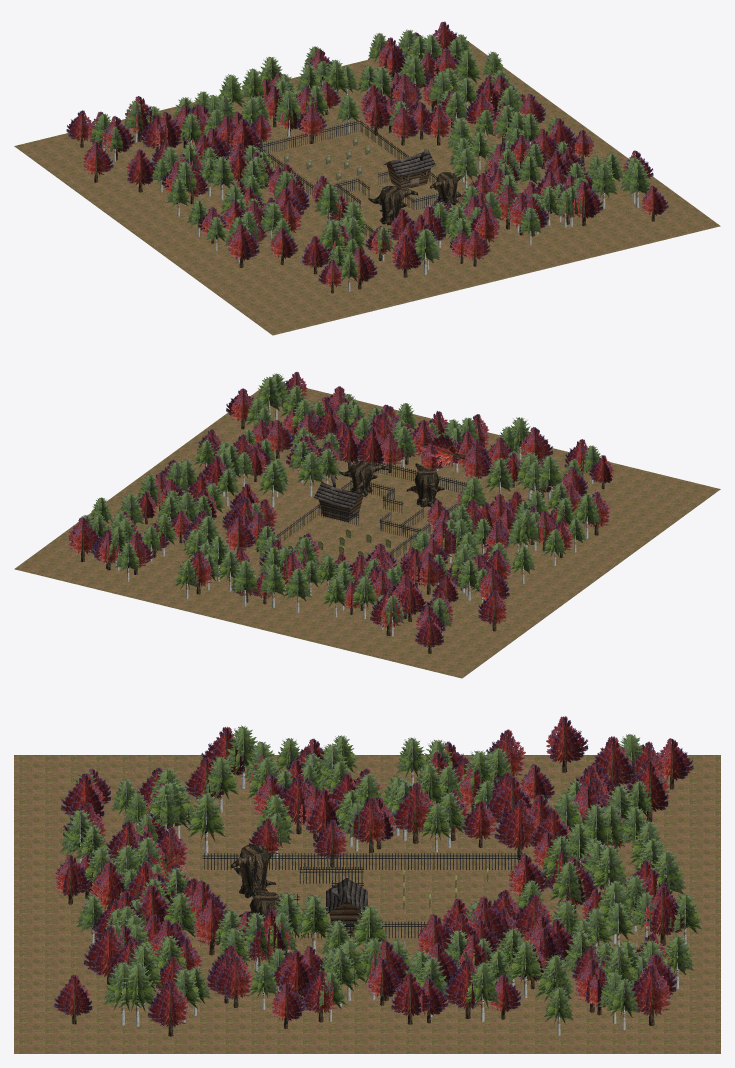
File: cementery.fbx
3 renders of one model, top to bottom at view 1: azimuth 30°, elevation 25°; view 2: azimuth 150°, elevation 25°; view 3: azimuth 270°, elevation 25°, orthographic. The views are drawn at different scales.
Parts seen in each view (by area): view 1: Landscape.002, House, bigTrunk.001, Landscape.002|tree.001|Dupli|2, Landscape.002|tree.001|Dupli|92, Landscape.002|tree.001|Dupli|4, Landscape.002|tree.001|Dupli|188, Landscape.002|tree.001|Dupli|, Landscape.002|tree.001|Dupli|172, Landscape.002|tree.001|Dupli|128, Landscape.002|tree.002|Dupli|227, Landscape.002|tree.001|Dupli|140 (+26 smaller); view 2: Landscape.002, House, bigTrunk.001, bigTrunk, Landscape.002|tree.001|Dupli|250, Landscape.002|tree.001|Dupli|138, tree.001, Landscape.002|tree.001|Dupli|, Landscape.002|tree.001|Dupli|44, Landscape.002|tree.001|Dupli|52, Landscape.002|tree.002|Dupli|125, Landscape.002|tree.001|Dupli|40 (+29 smaller); view 3: Landscape.002, House, Landscape.002|tree.001|Dupli|90, Landscape.002|tree.001|Dupli|250, bigTrunk.001, Landscape.002|tree.001|Dupli|, Landscape.002|tree.001|Dupli|254, Landscape.002|tree.001|Dupli|142, Landscape.002|tree.001|Dupli|68, Landscape.002|tree.001|Dupli|188, Landscape.002|tree.002|Dupli|85, Landscape.002|tree.001|Dupli|10 (+111 smaller).
Boxes of the visible parts, x1,y1,x2,y2 form: Landscape.002: (14, 39, 720, 335); House: (383, 149, 435, 189); bigTrunk.001: (368, 186, 418, 225); Landscape.002|tree.001|Dupli|2: (227, 224, 259, 267); Landscape.002|tree.001|Dupli|92: (391, 234, 422, 277); Landscape.002|tree.001|Dupli|4: (126, 149, 155, 192); Landscape.002|tree.001|Dupli|188: (572, 181, 603, 226); Landscape.002|tree.001|Dupli|: (83, 141, 113, 182); Landscape.002|tree.001|Dupli|172: (421, 105, 451, 145); Landscape.002|tree.001|Dupli|128: (470, 206, 499, 243); Landscape.002|tree.002|Dupli|227: (591, 163, 617, 209); Landscape.002|tree.001|Dupli|140: (363, 95, 391, 135); Landscape.002: (14, 383, 720, 678); House: (314, 475, 366, 521); bigTrunk.001: (406, 463, 444, 507); bigTrunk: (339, 461, 388, 495); Landscape.002|tree.001|Dupli|250: (68, 517, 100, 561); Landscape.002|tree.001|Dupli|138: (357, 427, 385, 464); tree.001: (420, 434, 465, 467); Landscape.002|tree.001|Dupli|: (478, 590, 506, 631); Landscape.002|tree.001|Dupli|44: (370, 590, 403, 635); Landscape.002|tree.001|Dupli|52: (415, 552, 446, 594); Landscape.002|tree.002|Dupli|125: (231, 560, 258, 606); Landscape.002|tree.001|Dupli|40: (397, 580, 426, 621); Landscape.002: (14, 755, 720, 1053); House: (326, 878, 367, 935); Landscape.002|tree.001|Dupli|90: (494, 799, 539, 859); Landscape.002|tree.001|Dupli|250: (629, 964, 671, 1025); bigTrunk.001: (230, 844, 275, 898); Landscape.002|tree.001|Dupli|: (546, 716, 588, 772); Landscape.002|tree.001|Dupli|254: (147, 980, 188, 1036); Landscape.002|tree.001|Dupli|142: (643, 885, 685, 945); Landscape.002|tree.001|Dupli|68: (392, 782, 433, 843); Landscape.002|tree.001|Dupli|188: (83, 925, 124, 986); Landscape.002|tree.002|Dupli|85: (187, 792, 225, 855); Landscape.002|tree.001|Dupli|10: (588, 736, 635, 786).
Bounding box in the file's own units: 10000 × 1834 × 10000.
